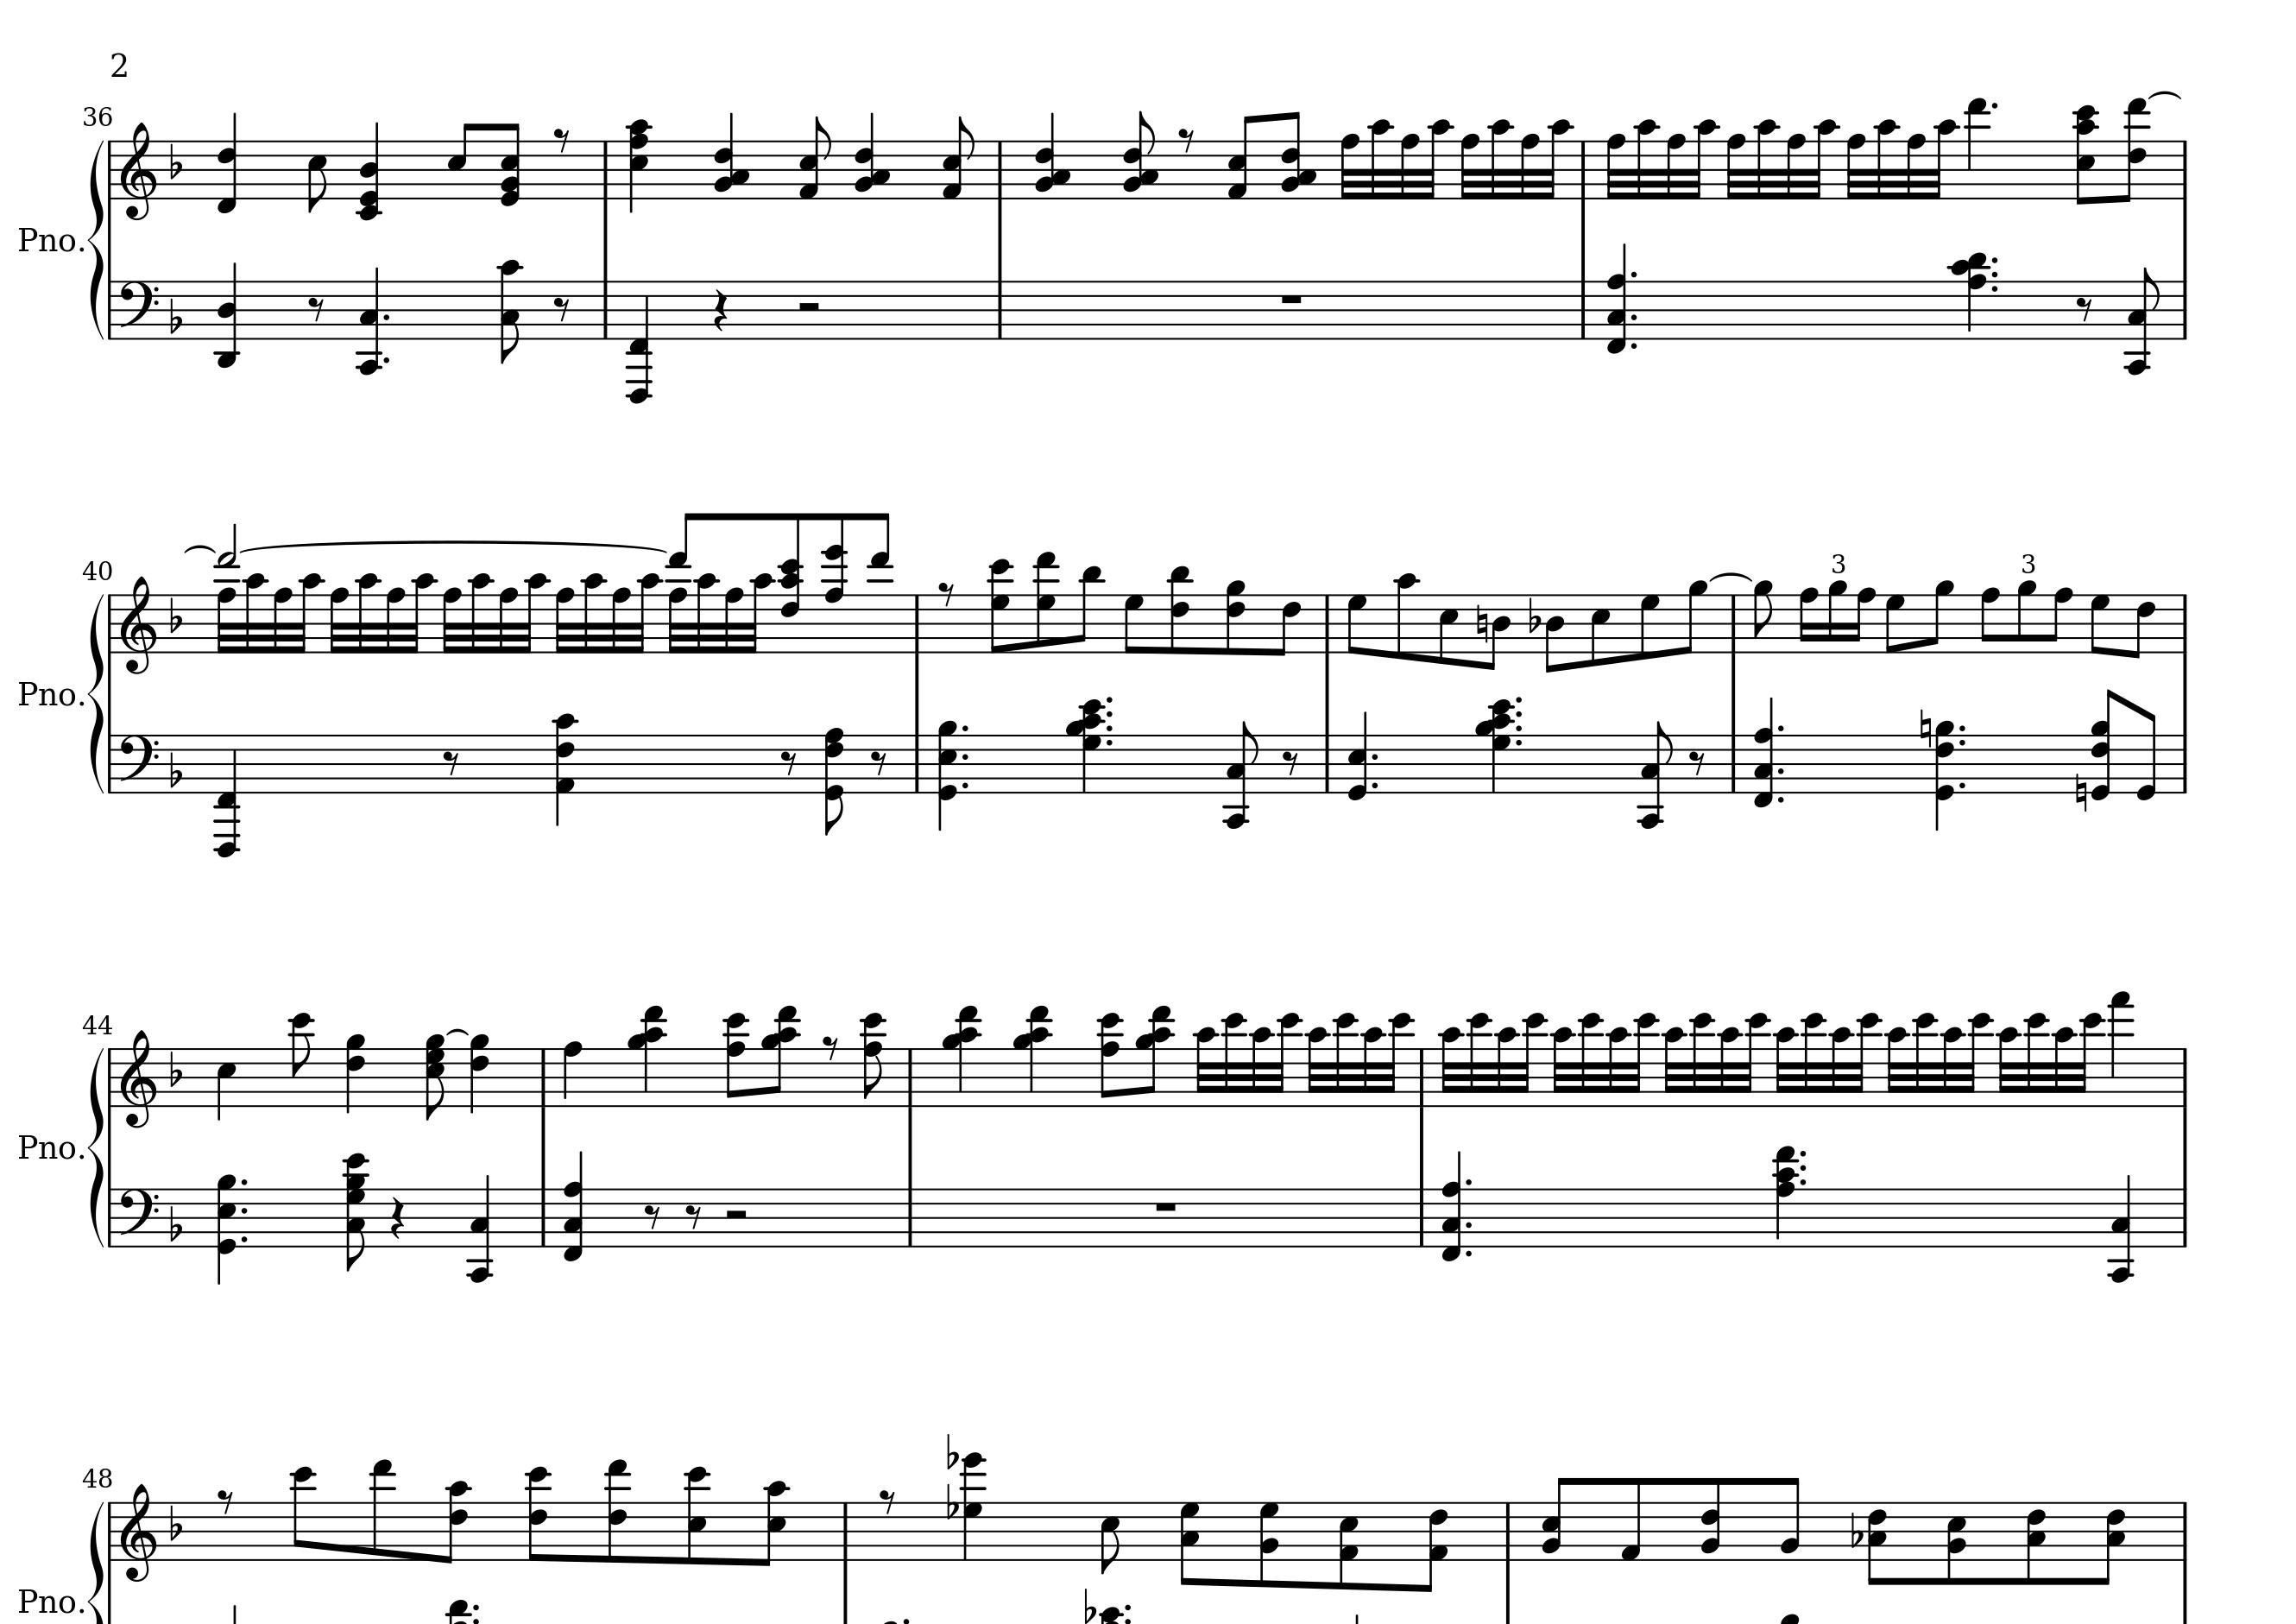0: (98, 557, 112, 582)
16_10: (747, 571, 775, 656)
16_8: (1850, 587, 1876, 654), (1797, 587, 1820, 654)
16_9: (1827, 578, 1846, 654)
2: (107, 49, 128, 77)
3: (81, 104, 97, 127), (1830, 552, 1846, 575), (2020, 552, 2036, 573)
32_10: (1881, 123, 1927, 200), (1808, 118, 1841, 200), (1542, 118, 1574, 200), (408, 571, 439, 654), (1358, 1025, 1388, 1109), (1423, 118, 1453, 200), (1690, 118, 1720, 200), (520, 571, 550, 654), (634, 571, 664, 654), (1437, 1026, 1467, 1109), (1660, 1025, 1690, 1107), (1548, 1026, 1578, 1107), (297, 571, 325, 654), (467, 571, 495, 654), (1193, 1025, 1221, 1107), (1247, 1025, 1275, 1107), (1303, 1025, 1332, 1107), (1604, 1025, 1632, 1107), (1773, 1025, 1801, 1107), (1827, 1025, 1855, 1107), (1883, 1025, 1911, 1107), (1939, 1025, 1967, 1107), (2050, 1025, 2078, 1107), (1753, 118, 1781, 199), (1929, 118, 1957, 199), (1493, 1026, 1521, 1107), (1716, 1026, 1744, 1107), (1996, 1026, 2024, 1107), (1368, 118, 1395, 200), (1488, 116, 1514, 199), (1634, 116, 1660, 199), (242, 571, 269, 654), (355, 571, 381, 654), (1874, 118, 1901, 199), (696, 571, 720, 654), (581, 571, 606, 652)
32_12: (1388, 1011, 1416, 1109), (1855, 1011, 1883, 1109), (1275, 1011, 1302, 1109), (1467, 1009, 1493, 1107), (1521, 1009, 1548, 1107), (1634, 1011, 1660, 1109), (1744, 1011, 1771, 1109), (1801, 1011, 1827, 1109), (1967, 1009, 1994, 1107), (2078, 1011, 2105, 1109), (1913, 1011, 1939, 1107), (2024, 1011, 2050, 1107), (1333, 1011, 1358, 1109), (1579, 1009, 1604, 1107), (1690, 1011, 1715, 1109), (1223, 1011, 1247, 1107)
32_8: (214, 585, 239, 656), (1664, 132, 1688, 200), (1339, 132, 1361, 200), (1398, 132, 1421, 200), (1518, 132, 1541, 200), (1725, 132, 1748, 200), (1785, 132, 1808, 200), (1904, 132, 1927, 200), (271, 587, 293, 656), (441, 585, 464, 654), (497, 585, 520, 654), (553, 585, 576, 654), (610, 585, 632, 654), (668, 585, 690, 654), (722, 585, 745, 654), (329, 585, 350, 656), (385, 585, 406, 656), (1460, 132, 1481, 200), (1606, 132, 1627, 200), (1846, 132, 1867, 200)
4: (81, 557, 97, 584), (81, 1012, 97, 1037), (98, 1012, 114, 1037), (81, 1464, 97, 1489)
4_-1_6: (216, 112, 239, 213)
4_-3_4: (213, 264, 244, 371)
4_-4_3: (353, 267, 385, 378), (2106, 1172, 2136, 1283), (466, 1176, 495, 1283)
4_-8_-1: (213, 735, 244, 859), (625, 281, 653, 404)
4_0_5: (1347, 712, 1370, 803)
4_13: (1966, 97, 1989, 199)
4_15: (2108, 990, 2134, 1111)
4_4th: (1066, 694, 1103, 793), (1476, 692, 1511, 793)
4_5: (214, 1046, 237, 1121)
4_7_14: (959, 1450, 987, 1562)
4_8: (560, 1039, 583, 1109)
4_th: (1012, 1004, 1054, 1107), (943, 1002, 984, 1109), (629, 1004, 669, 1109), (1033, 111, 1072, 200), (550, 710, 580, 826), (713, 111, 750, 200), (854, 111, 891, 199), (355, 120, 383, 221), (1604, 243, 1628, 355), (1773, 1141, 1797, 1246), (1751, 692, 1774, 805), (562, 1149, 585, 1262), (625, 116, 652, 211), (214, 1172, 237, 1281), (1440, 1146, 1462, 1258), (936, 722, 959, 826), (1934, 719, 1955, 830)
6: (97, 104, 112, 127)
8: (97, 1464, 112, 1489)
8_-4_3: (2122, 267, 2162, 378), (1635, 721, 1674, 830), (1223, 722, 1260, 831)
8_0: (2136, 708, 2157, 801)
8_1: (1620, 1475, 1643, 1562)
8_10: (1395, 571, 1419, 661)
8_11: (1073, 564, 1103, 654)
8_12: (290, 1462, 314, 1562), (290, 1011, 313, 1109)
8_13: (866, 511, 894, 656), (371, 1457, 395, 1562)
8_1_5: (799, 116, 834, 202), (942, 116, 975, 200), (1228, 114, 1258, 200), (1339, 1501, 1360, 1591)
8_1_6: (1421, 1501, 1449, 1594)
8_2: (1780, 1475, 1801, 1562)
8_2_5: (1542, 1476, 1572, 1562), (1946, 1501, 1969, 1585)
8_2_6: (1699, 1476, 1722, 1562)
8_2_7: (1258, 1501, 1281, 1587)
8_3_10: (495, 258, 523, 364)
8_3_6: (2099, 1501, 2127, 1585), (1866, 1501, 1890, 1587), (2025, 1499, 2048, 1587)
8_3_7: (1179, 1501, 1200, 1587)
8_4: (1484, 591, 1511, 671), (1544, 592, 1565, 675)
8_4th: (341, 1149, 371, 1274)
8_5: (446, 121, 474, 200), (1098, 1499, 1121, 1575), (306, 139, 329, 213), (1590, 592, 1611, 668), (1437, 592, 1458, 666)
8_6: (1274, 591, 1302, 657), (2129, 592, 2155, 659)
8_6_10: (439, 1480, 471, 1564), (759, 1480, 789, 1568)
8_6_11: (1166, 564, 1195, 656)
8_6_12: (683, 1464, 710, 1566), (525, 1466, 552, 1562)
8_6_13: (2119, 97, 2148, 204), (603, 1459, 632, 1564)
8_6_9: (1224, 580, 1247, 656)
8_7: (1639, 591, 1660, 659), (2089, 592, 2112, 656), (1123, 592, 1145, 654), (1347, 592, 1368, 656), (1885, 592, 1906, 654)
8_7_12: (989, 557, 1014, 654)
8_7_13: (1031, 550, 1059, 654)
8_8: (2047, 585, 2073, 654), (1980, 585, 2001, 654)
8_8_14: (820, 511, 850, 654)
8_9: (1925, 578, 1955, 654), (1679, 580, 1708, 654), (1751, 580, 1774, 654), (2017, 578, 2038, 654)
8_th: (776, 513, 806, 654), (761, 1004, 801, 1107), (1135, 1002, 1173, 1107), (1121, 112, 1159, 202), (2092, 687, 2122, 800), (2071, 102, 2101, 206), (1282, 111, 1316, 202), (822, 724, 845, 837), (1862, 1501, 1892, 1585), (423, 1032, 446, 1120), (499, 121, 522, 207)
Brace: (86, 591, 105, 796), (86, 137, 105, 339), (88, 1046, 105, 1250)
Fclef: (118, 279, 160, 341), (118, 1186, 160, 1248), (116, 733, 160, 787)
Flat: (943, 1429, 961, 1471), (167, 141, 184, 181), (167, 594, 184, 634), (167, 747, 184, 787), (167, 1048, 184, 1088), (167, 295, 184, 334), (167, 1501, 183, 1543), (167, 1202, 183, 1243), (1082, 1584, 1098, 1624), (1848, 1512, 1864, 1548), (1527, 594, 1541, 633), (945, 1482, 959, 1520)
Gclef: (118, 573, 158, 677), (119, 1026, 158, 1130), (119, 120, 158, 221), (119, 1480, 158, 1582)
Natural: (2073, 772, 2089, 812), (1918, 705, 1932, 749), (1474, 601, 1488, 643)
Pno: (16, 677, 77, 710), (18, 223, 77, 257), (18, 1132, 77, 1165), (18, 1585, 77, 1615)
Rests1: (1277, 290, 1305, 306), (1152, 1199, 1180, 1214)
Rests2: (794, 299, 822, 315), (722, 1206, 748, 1222)
Rests4: (388, 1193, 406, 1241), (711, 286, 729, 332)
Rests8: (306, 295, 327, 323), (868, 749, 889, 777), (441, 747, 460, 777), (216, 1485, 235, 1515), (878, 1485, 898, 1515), (552, 125, 571, 153), (1177, 125, 1196, 153), (552, 295, 571, 323), (780, 749, 799, 777), (1281, 749, 1300, 777), (1688, 749, 1708, 777), (820, 1033, 840, 1062), (683, 1202, 703, 1230), (2075, 295, 2094, 322), (936, 580, 956, 606), (643, 1202, 661, 1230)
Single_barline: (2175, 1501, 2194, 1561), (1498, 1501, 1518, 1561), (596, 281, 615, 339), (836, 1501, 854, 1561), (991, 281, 1008, 339), (536, 1048, 553, 1106), (1412, 1048, 1430, 1106), (901, 1188, 919, 1246), (991, 141, 1008, 197), (1574, 141, 1592, 197), (901, 1048, 917, 1107), (1576, 281, 1592, 339), (2177, 281, 2192, 339), (2177, 592, 2192, 650), (908, 594, 924, 652), (1319, 594, 1335, 652), (2177, 1048, 2192, 1106), (1414, 1188, 1430, 1246), (2177, 1188, 2192, 1246), (2177, 141, 2192, 197), (597, 141, 613, 197), (1725, 735, 1741, 791), (908, 735, 924, 791), (1319, 735, 1335, 791), (2177, 735, 2192, 791), (104, 1501, 118, 1561), (104, 1048, 118, 1106), (536, 1188, 550, 1246), (1727, 596, 1741, 652), (104, 735, 118, 791), (104, 592, 116, 652), (104, 279, 116, 337), (104, 1186, 116, 1244), (104, 141, 116, 197)
Slur: (1708, 571, 1751, 584), (183, 543, 218, 554), (2147, 90, 2182, 98), (444, 1028, 469, 1037)
dot: (1463, 1246, 1476, 1258), (1989, 98, 1999, 111), (381, 353, 392, 366), (1513, 708, 1525, 719), (1955, 722, 1967, 733), (1103, 736, 1116, 747), (1513, 736, 1525, 747), (1955, 736, 1967, 747), (1368, 749, 1379, 761), (1368, 779, 1379, 791), (1776, 793, 1787, 805), (1797, 1146, 1808, 1158), (1797, 1162, 1809, 1172), (1463, 1218, 1474, 1230), (469, 1601, 481, 1612), (1121, 1601, 1133, 1612), (1989, 255, 1999, 265), (1628, 269, 1639, 279), (1989, 283, 1999, 294), (381, 311, 392, 322), (1628, 311, 1639, 322), (1628, 339, 1639, 350), (1103, 694, 1114, 705), (1513, 694, 1523, 705), (1103, 710, 1114, 721), (1514, 722, 1525, 733), (959, 722, 970, 733), (959, 750, 970, 761), (959, 779, 970, 789), (1957, 779, 1967, 789), (239, 1176, 249, 1186), (239, 1204, 249, 1214), (239, 1232, 249, 1243), (469, 1615, 481, 1624), (1990, 267, 1999, 278), (1103, 728, 1114, 736), (1776, 765, 1785, 775), (1799, 1176, 1808, 1186), (1463, 1178, 1474, 1186), (1776, 724, 1785, 733), (899, 1617, 910, 1624), (1123, 1617, 1133, 1624)
